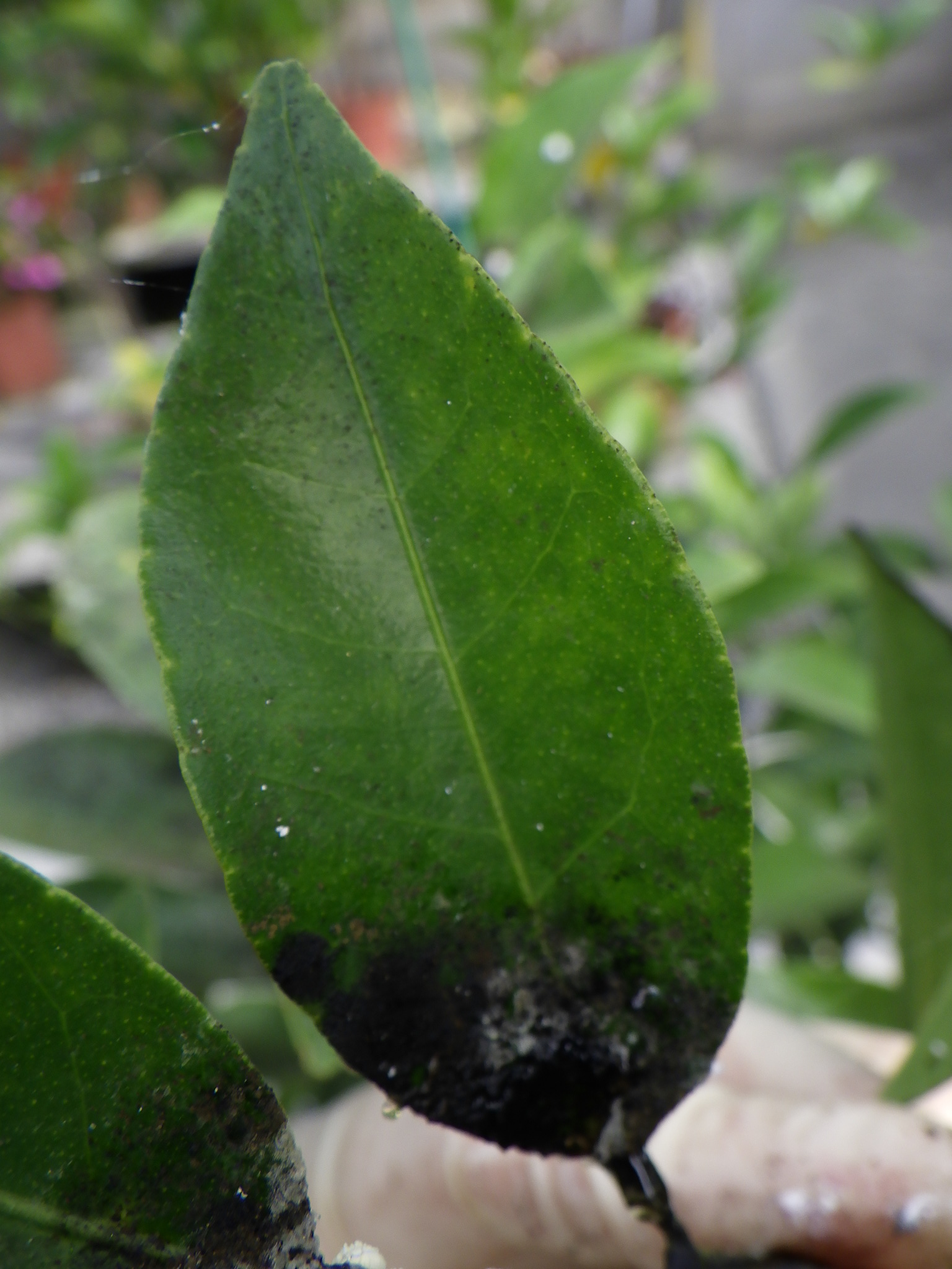Sooty_Mold: (143, 64, 751, 1169)
